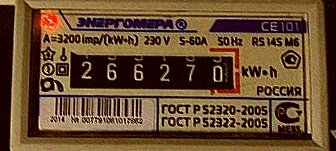0: (211, 62, 223, 83)
2: (79, 58, 93, 79), (158, 61, 170, 82)
6: (105, 61, 118, 81), (131, 61, 144, 81)
7: (183, 61, 196, 83)
screen: (59, 40, 247, 101)
